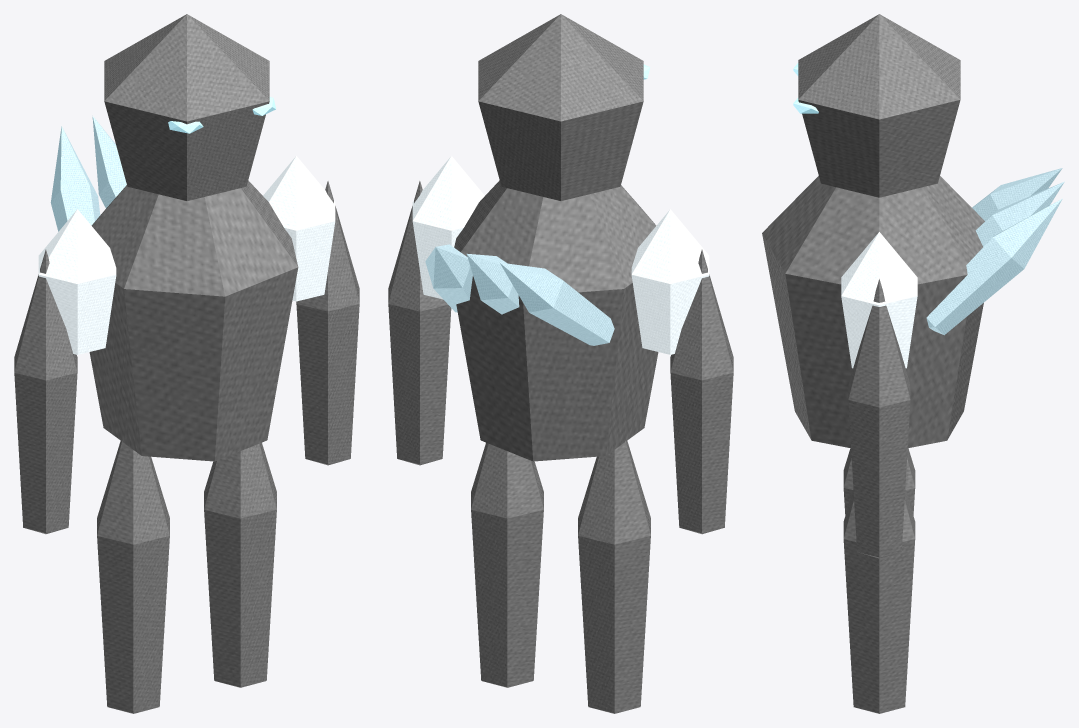
The model's file is deep-fracture-creature-CrystalRevenant-frost.glb.
The picture shows the model from 3 angles, left to right: view 1: azimuth 30°, elevation 25°; view 2: azimuth 150°, elevation 25°; view 3: azimuth 270°, elevation 25°; orthographic projection.
Parts seen in each view (by area): view 1: torso, helmet, leg-l, leg-r, arm-l, arm-r, armor-core-l, armor-core-r, back-crystal-0, back-crystal-1; view 2: torso, helmet, leg-l, leg-r, arm-l, arm-r, armor-core-l, armor-core-r, back-crystal-0, back-crystal-2, back-crystal-1; view 3: torso, helmet, arm-r, leg-r, armor-core-r, back-crystal-2, back-crystal-1, back-crystal-0, leg-l.
Boxes of the visible parts, x1,y1,x2,y2 form: torso: [89, 180, 298, 461]; helmet: [104, 14, 269, 200]; leg-l: [97, 440, 169, 713]; leg-r: [204, 442, 276, 687]; arm-l: [14, 249, 77, 534]; arm-r: [296, 181, 359, 465]; armor-core-l: [38, 209, 116, 354]; armor-core-r: [263, 156, 335, 301]; back-crystal-0: [50, 126, 100, 231]; back-crystal-1: [92, 115, 126, 208]; torso: [454, 180, 658, 461]; helmet: [478, 14, 643, 200]; leg-l: [578, 440, 650, 713]; leg-r: [471, 442, 543, 687]; arm-l: [670, 249, 733, 534]; arm-r: [388, 181, 451, 465]; armor-core-l: [631, 209, 709, 354]; armor-core-r: [412, 156, 484, 299]; back-crystal-0: [499, 262, 614, 345]; back-crystal-2: [425, 244, 472, 312]; back-crystal-1: [466, 253, 519, 314]; torso: [762, 176, 984, 448]; helmet: [798, 14, 960, 197]; arm-r: [848, 279, 910, 558]; leg-r: [843, 490, 915, 713]; armor-core-r: [841, 232, 917, 368]; back-crystal-2: [926, 198, 1062, 335]; back-crystal-1: [975, 181, 1064, 246]; back-crystal-0: [972, 168, 1062, 221]; leg-l: [843, 448, 915, 515].
Bounding box in the file's own units: 1.42 × 2.7 × 1.1.
Materials: 4 (4 with a texture image).
